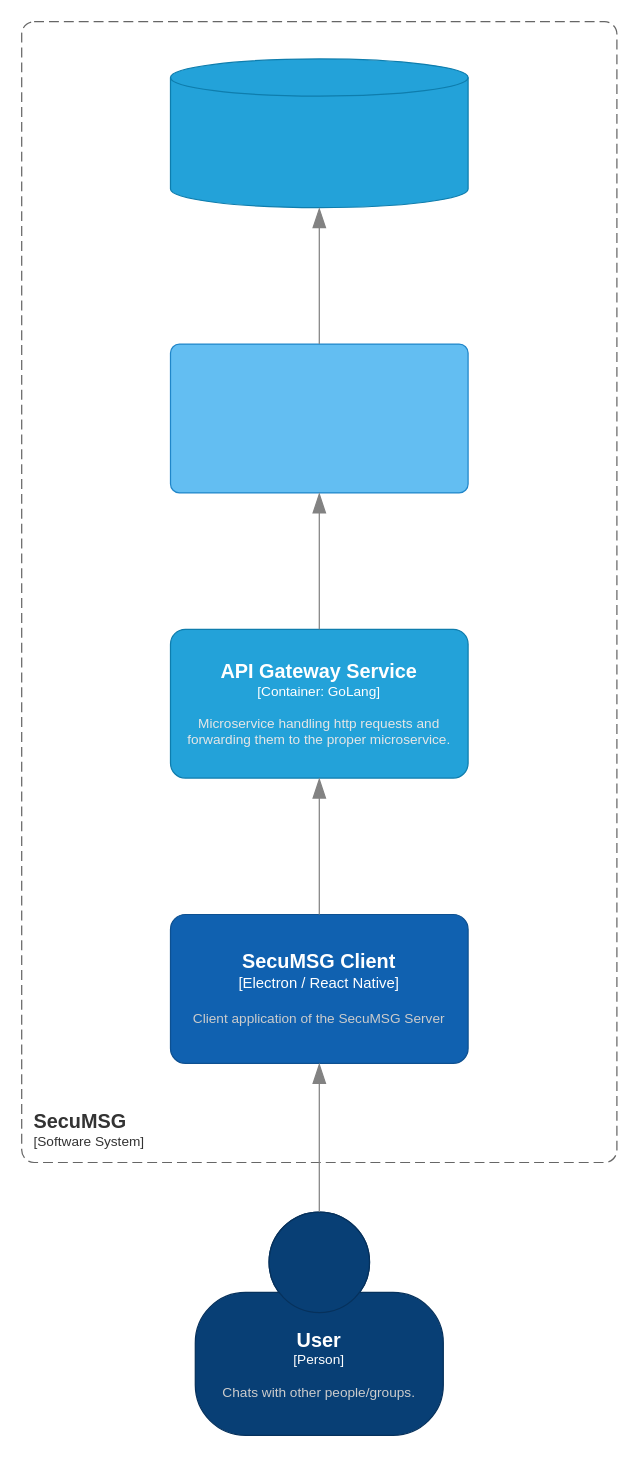
Image size: 639x1457. Some labels were removed from this diagram. The shapes that lost their labels are listed below. From the top down, each one's centre as x and y in pixels, then its label:
(x=318, y=133): Database container [Container: Postgres] Handles storing users,sessions,etc...
(x=318, y=418): Auth Service [Component: GoLang] Handles authentication & token issuing.
